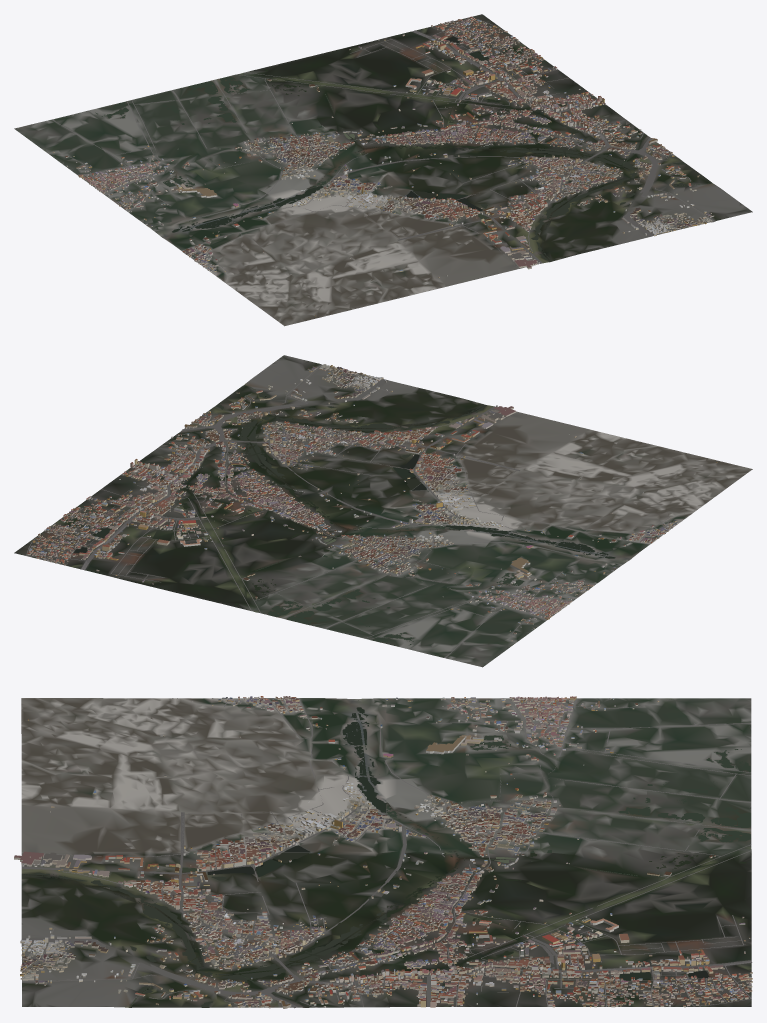
3 renders of one model, top to bottom at view 1: azimuth 30°, elevation 25°; view 2: azimuth 150°, elevation 25°; view 3: azimuth 270°, elevation 25°, orthographic. The views are drawn at different scales.
Parts seen in each view (by area): view 1: ground, buildings, roads, water; view 2: ground, buildings, roads, water; view 3: ground, buildings, roads, water.
Part boxes in pixels (x1,y1,x2,y2): ground: (14,14,752,326); buildings: (52,16,713,316); roads: (52,18,714,276); water: (95,36,711,261); ground: (14,355,752,667); buildings: (27,364,717,641); roads: (25,364,694,658); water: (74,385,615,645); ground: (21,698,751,1007); buildings: (14,696,752,1008); roads: (21,698,752,1008); water: (22,700,751,1007).
Bounding box in the file's own units: 2822 × 33.96 × 2839.
